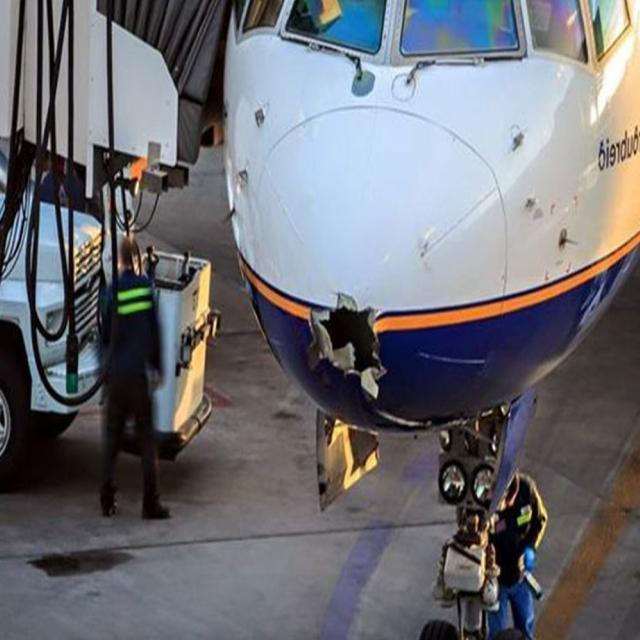Crack: (303, 277, 390, 407)
